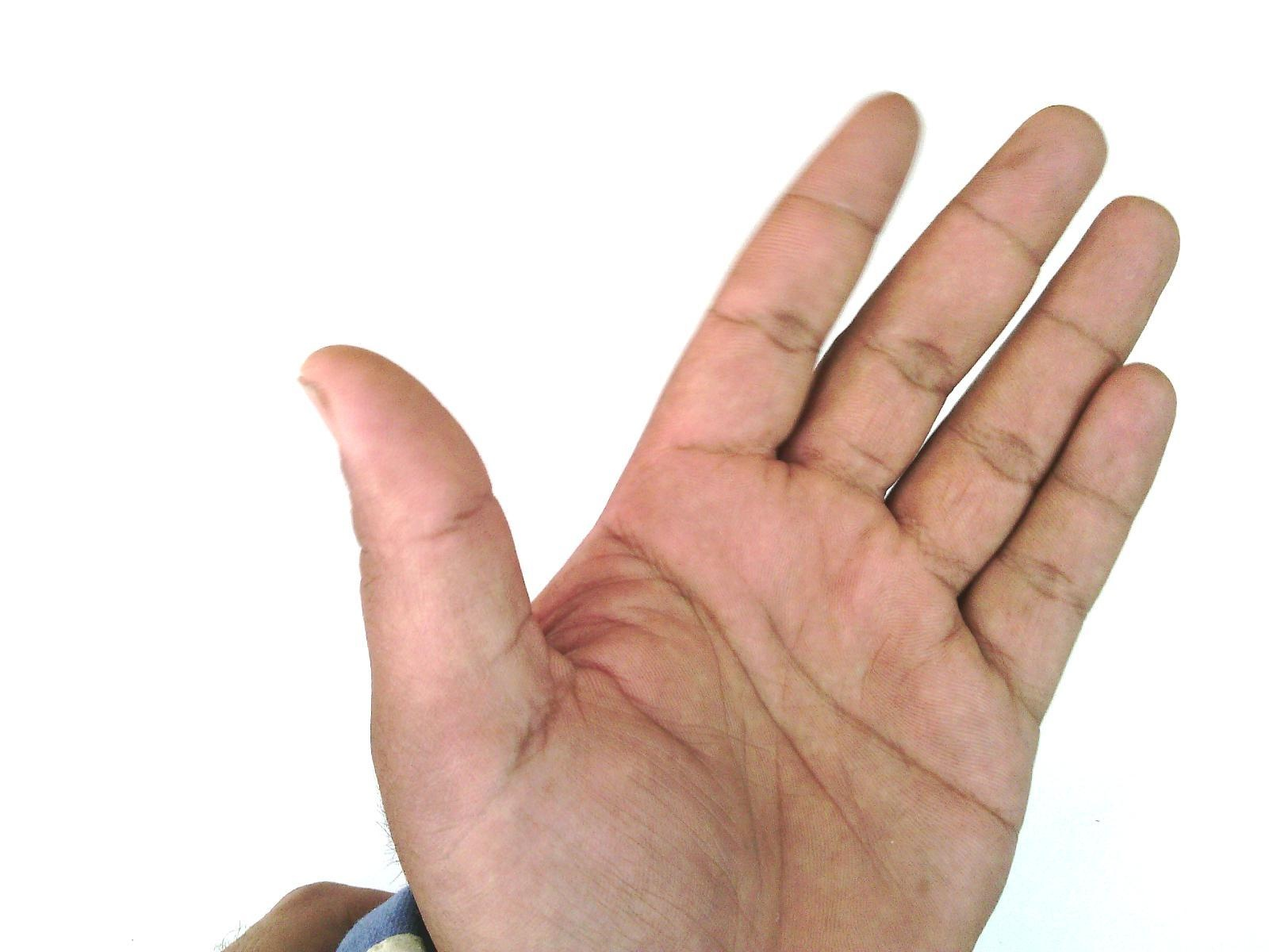open_palm: (262, 90, 1185, 952)
